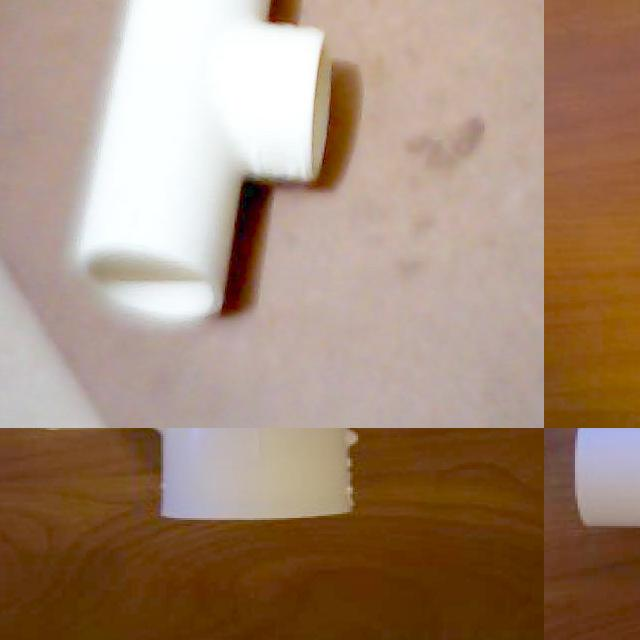L Joint: (36, 428, 358, 524), (574, 428, 640, 532)
T Joint: (74, 0, 331, 328)
